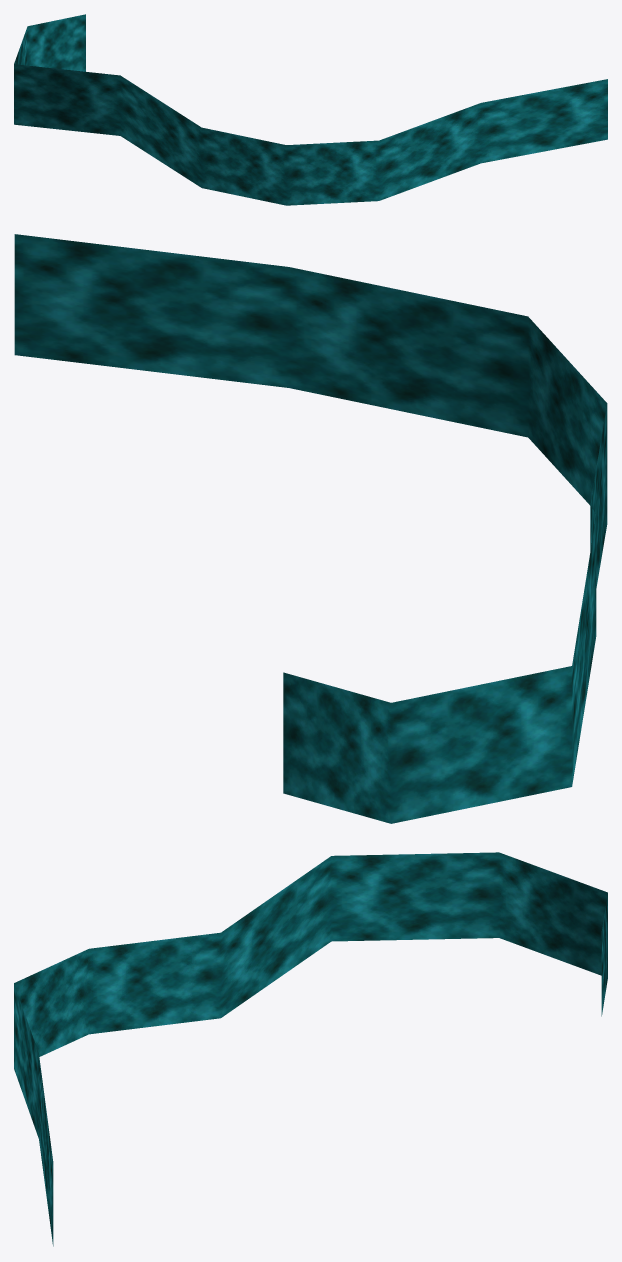
The model's file is MIRKWOOD_FOGF.fbx.
3 views of the same model, one above another, from view 1: azimuth 30°, elevation 25°; view 2: azimuth 150°, elevation 25°; view 3: azimuth 270°, elevation 25° (orthographic). The views are drawn at different scales.
Visible parts, largest first — view 1: MIRKWOOD_FOGF; view 2: MIRKWOOD_FOGF; view 3: MIRKWOOD_FOGF.
Part boxes in pixels (x1=…): MIRKWOOD_FOGF: x1=14, y1=14, x2=607, y2=205; MIRKWOOD_FOGF: x1=14, y1=234, x2=607, y2=823; MIRKWOOD_FOGF: x1=14, y1=852, x2=607, y2=1246.
Bounding box in the file's own units: 625319 × 129100 × 521280.
1 material, 1 textured.
